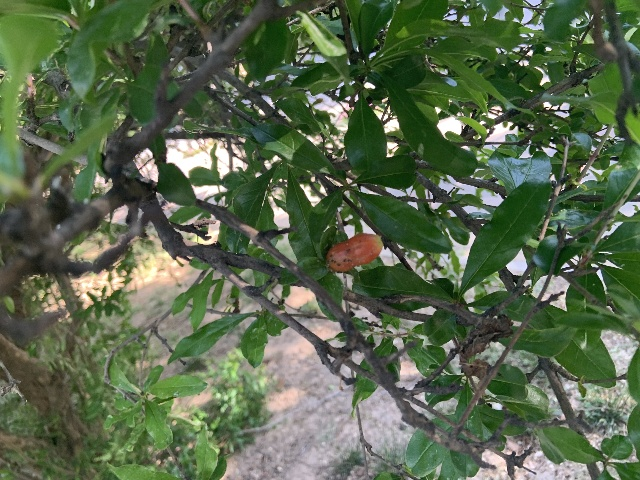bud: (326, 233, 382, 271)
